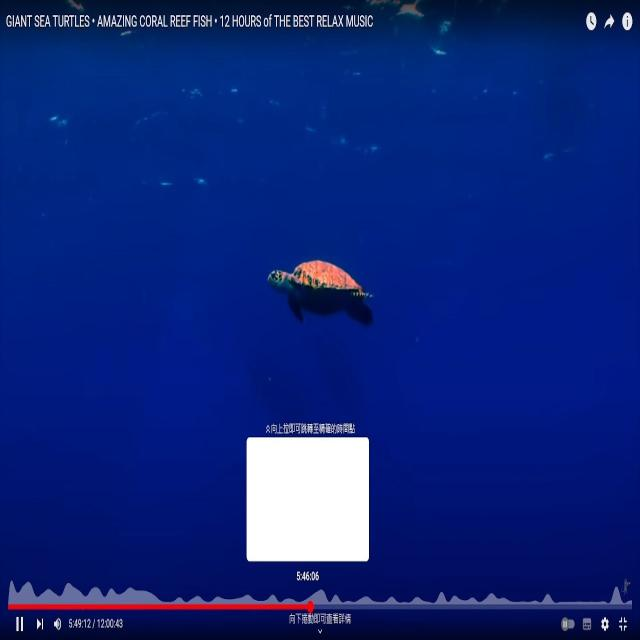Sea turtle: (265, 255, 376, 333)
